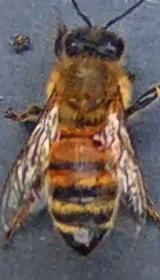varroa_mite: (82, 118, 117, 154)
